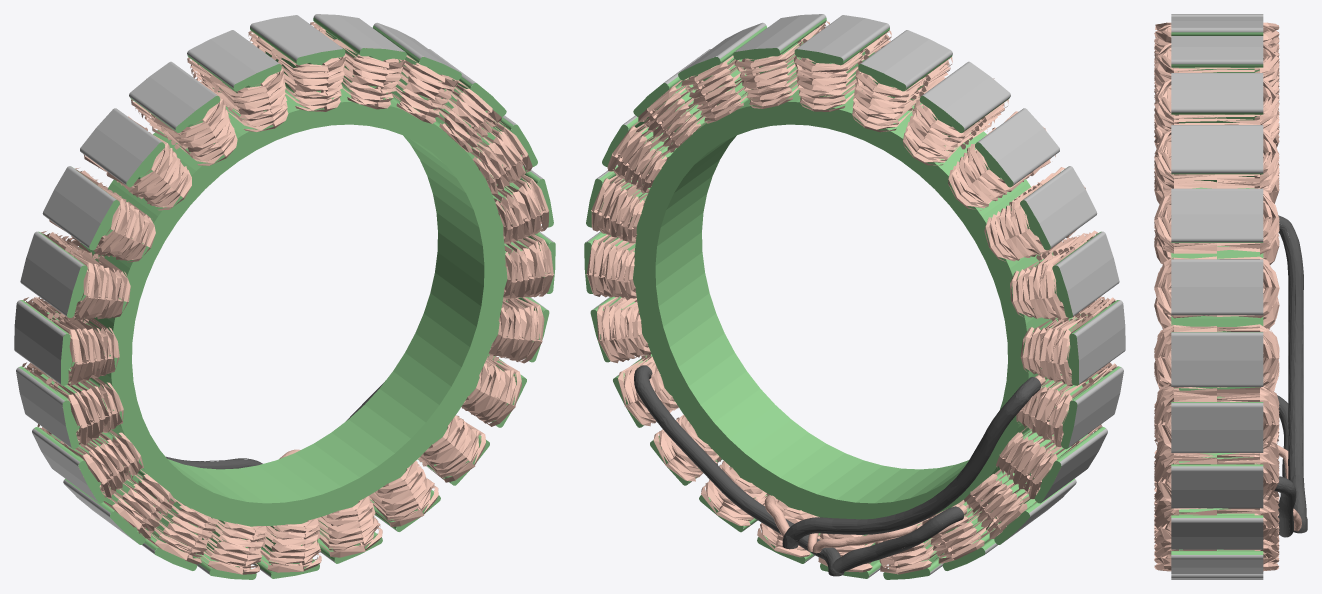
Rendered from stator-windings-mobile.glb.
3 views of the same model, side by side, from view 1: azimuth 30°, elevation 25°; view 2: azimuth 150°, elevation 25°; view 3: azimuth 270°, elevation 25° (orthographic).
Visible parts, largest first — view 1: wx_motorWinding; view 2: wx_motorWinding; view 3: wx_motorWinding.
Part boxes in pixels (x1=…): wx_motorWinding: x1=14, y1=14, x2=555, y2=579; wx_motorWinding: x1=584, y1=14, x2=1125, y2=579; wx_motorWinding: x1=1154, y1=14, x2=1307, y2=579.
Bounding box in the file's own units: 64.54 × 64.54 × 17.52.
